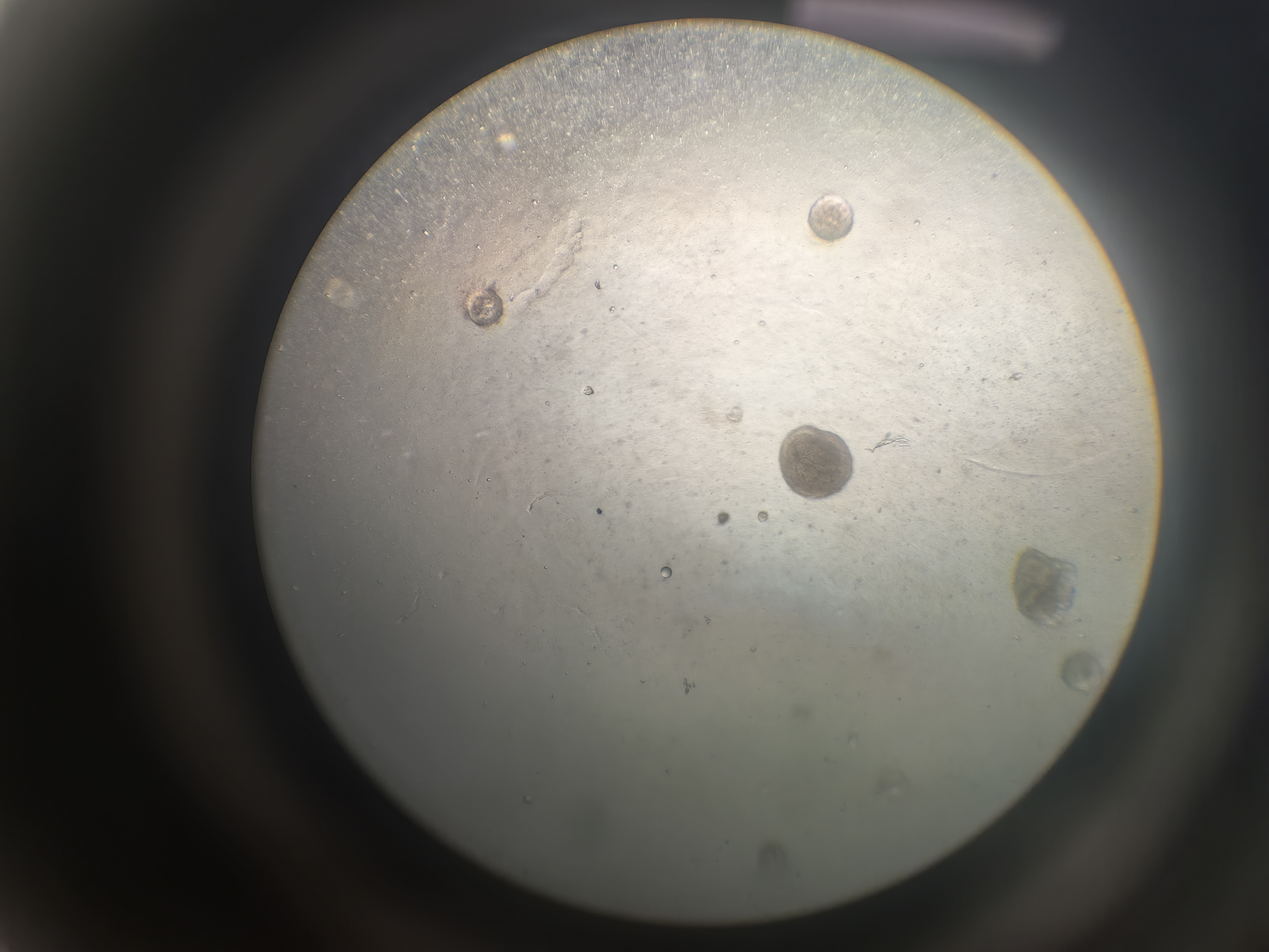organoid: (702, 527, 789, 616), (503, 518, 551, 563)
